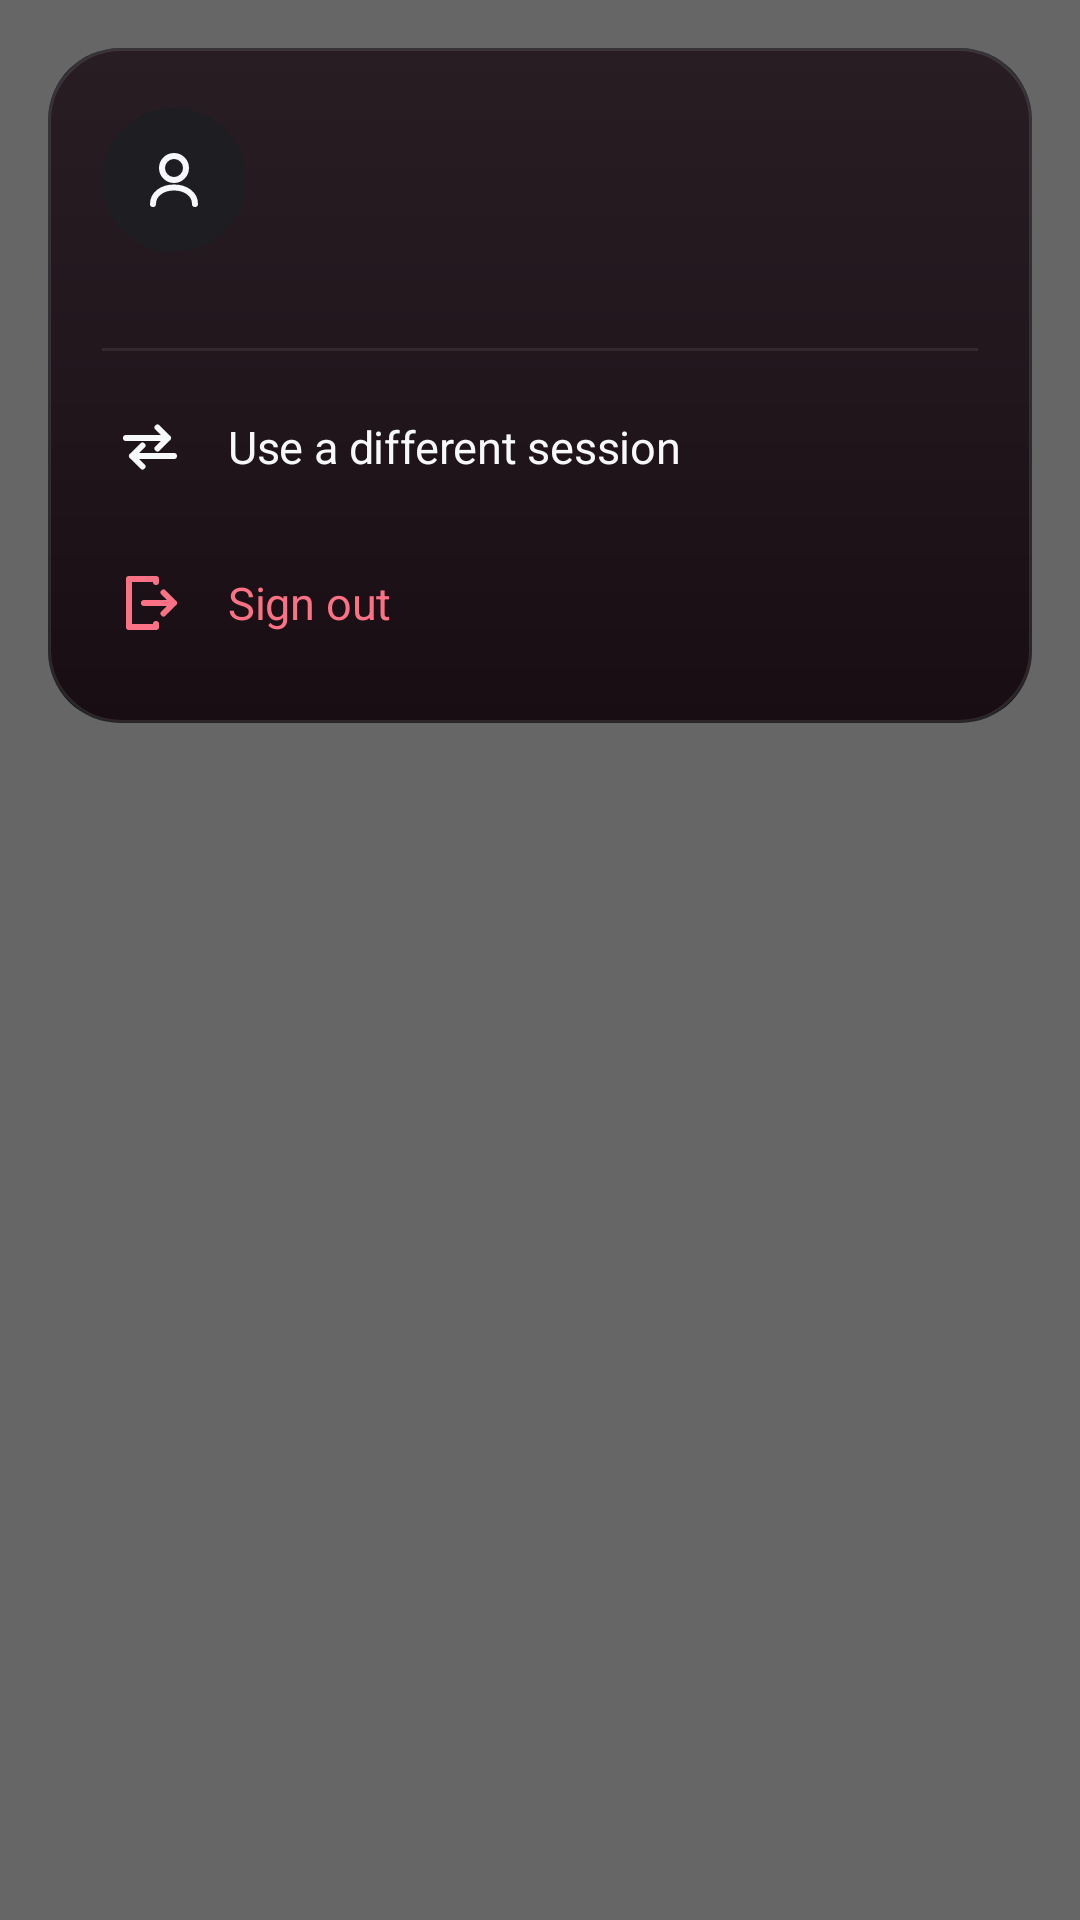

Named icons in this screenshot (1080×1920) and their centers, (x,y):
account: (174,180)
